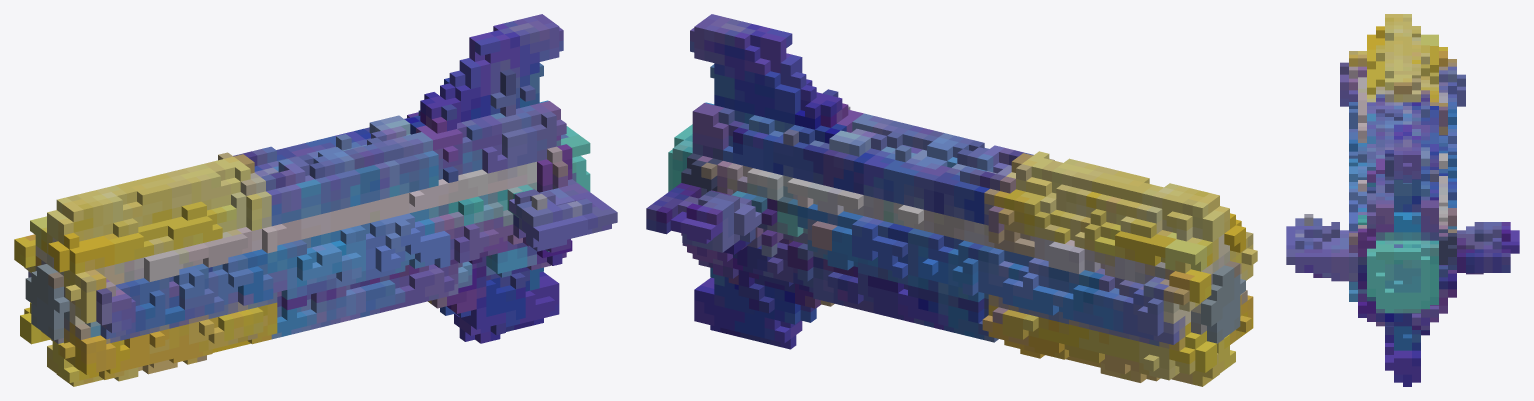
Rendered from spaceship_missile_0304125431.glb.
The picture shows the model from 3 angles, left to right: view 1: azimuth 30°, elevation 25°; view 2: azimuth 150°, elevation 25°; view 3: azimuth 270°, elevation 25°; orthographic projection. The views are drawn at different scales.
Size of the model in its own units: 1.77 by 0.9516 by 0.8531.
